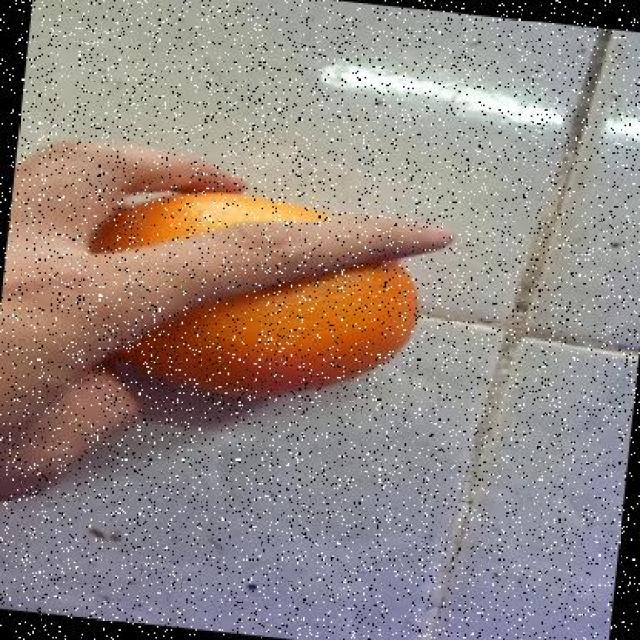Orange: (88, 188, 420, 398)
